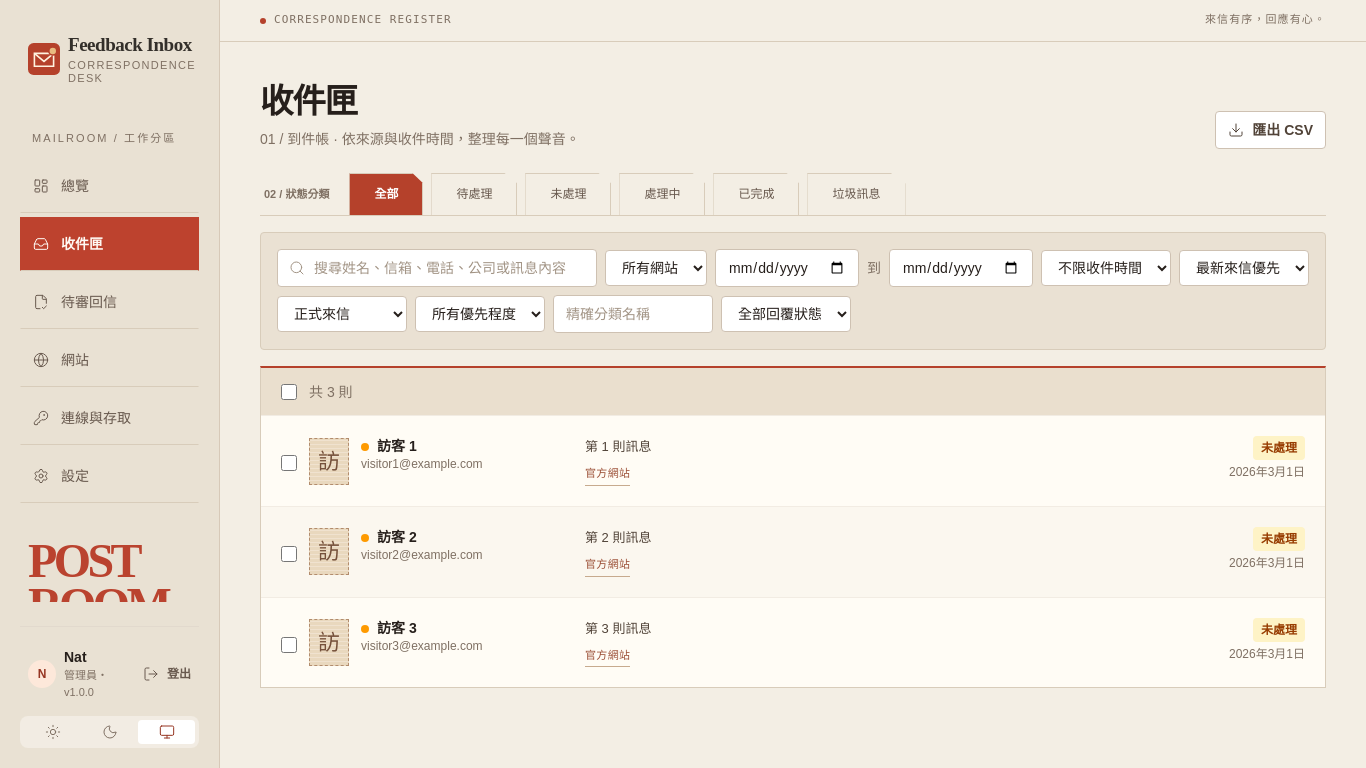
Test: 勾選幾則之後可以一次改狀態
Click the checkbox named "選取 訪客 1 的訊息" at (289, 463), box [281, 455, 297, 471]
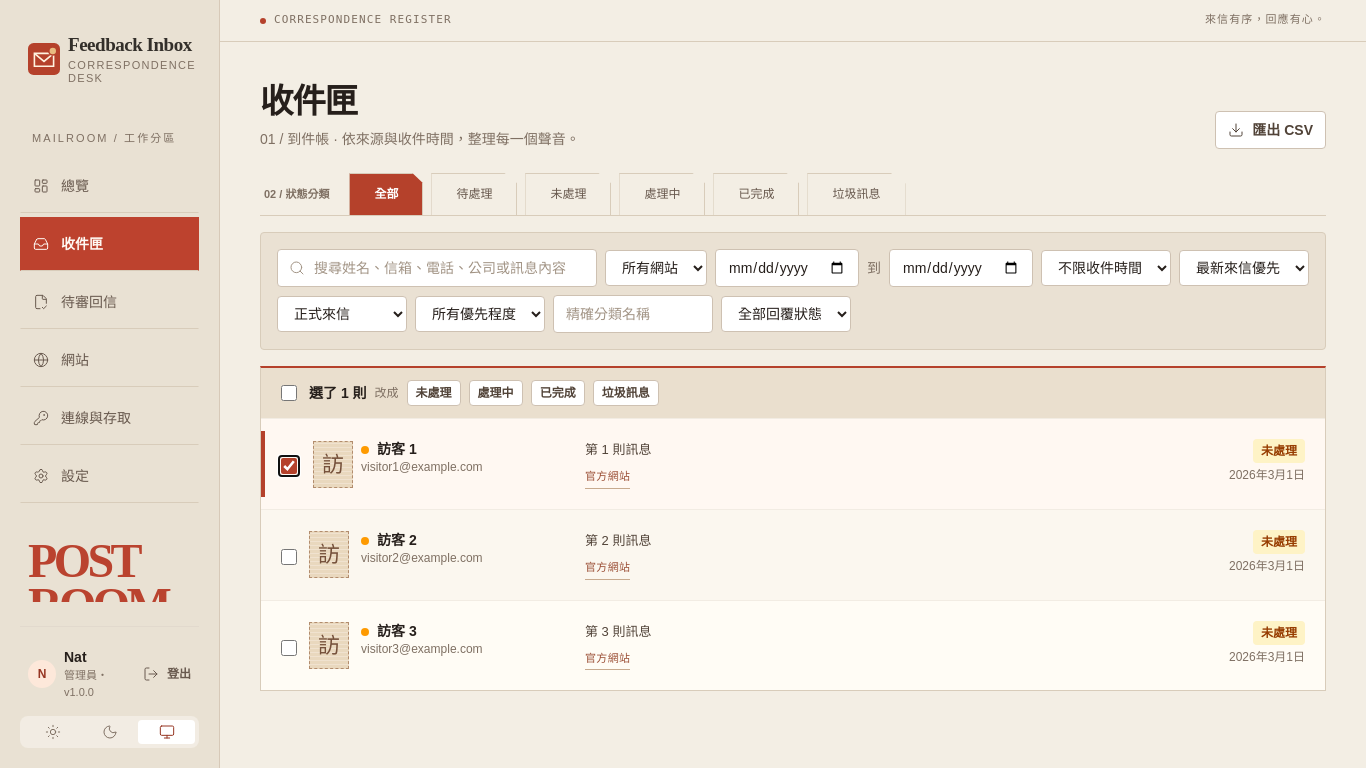
Click the checkbox named "選取 訪客 3 的訊息" at (289, 648), box [281, 640, 297, 656]
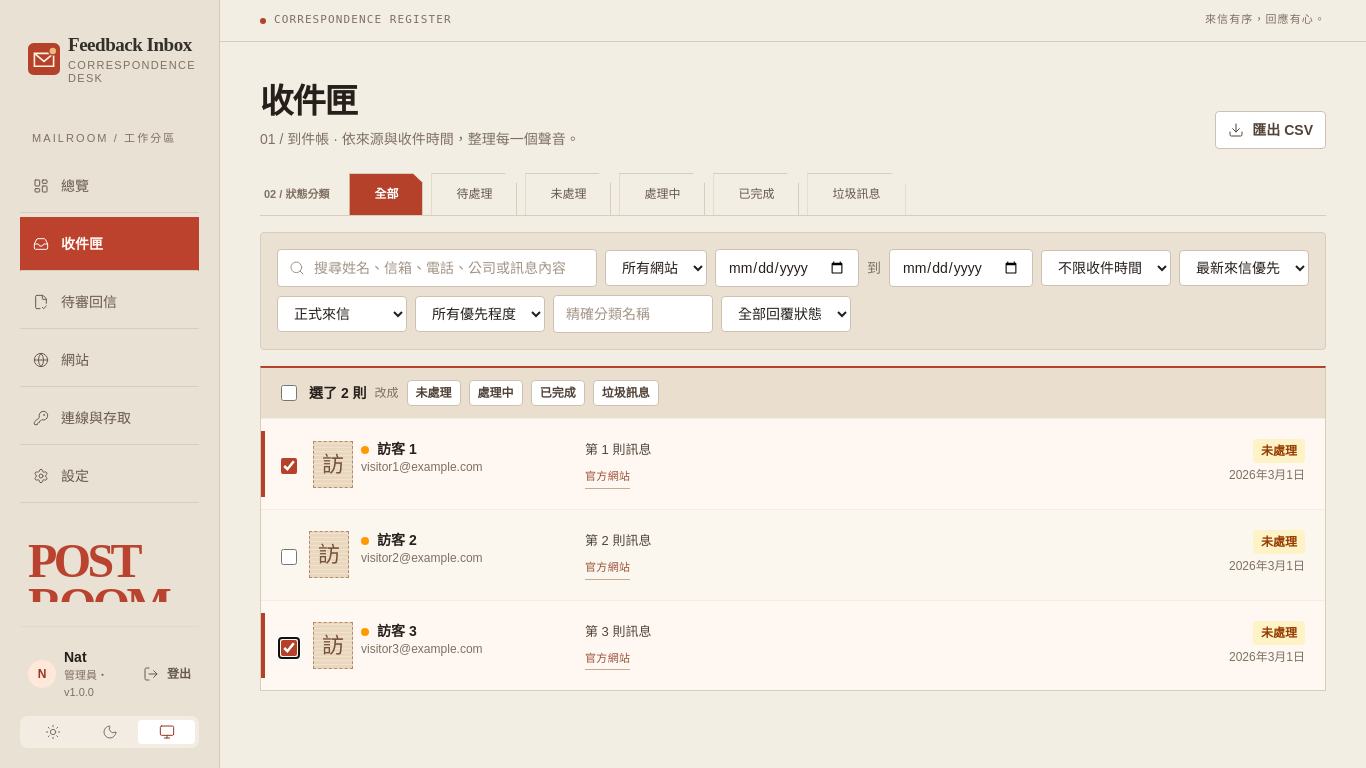
Now the text "選了 2 則" is shown, box [309, 383, 367, 403]
Click the button "已完成" at (558, 393), box [531, 380, 585, 406]
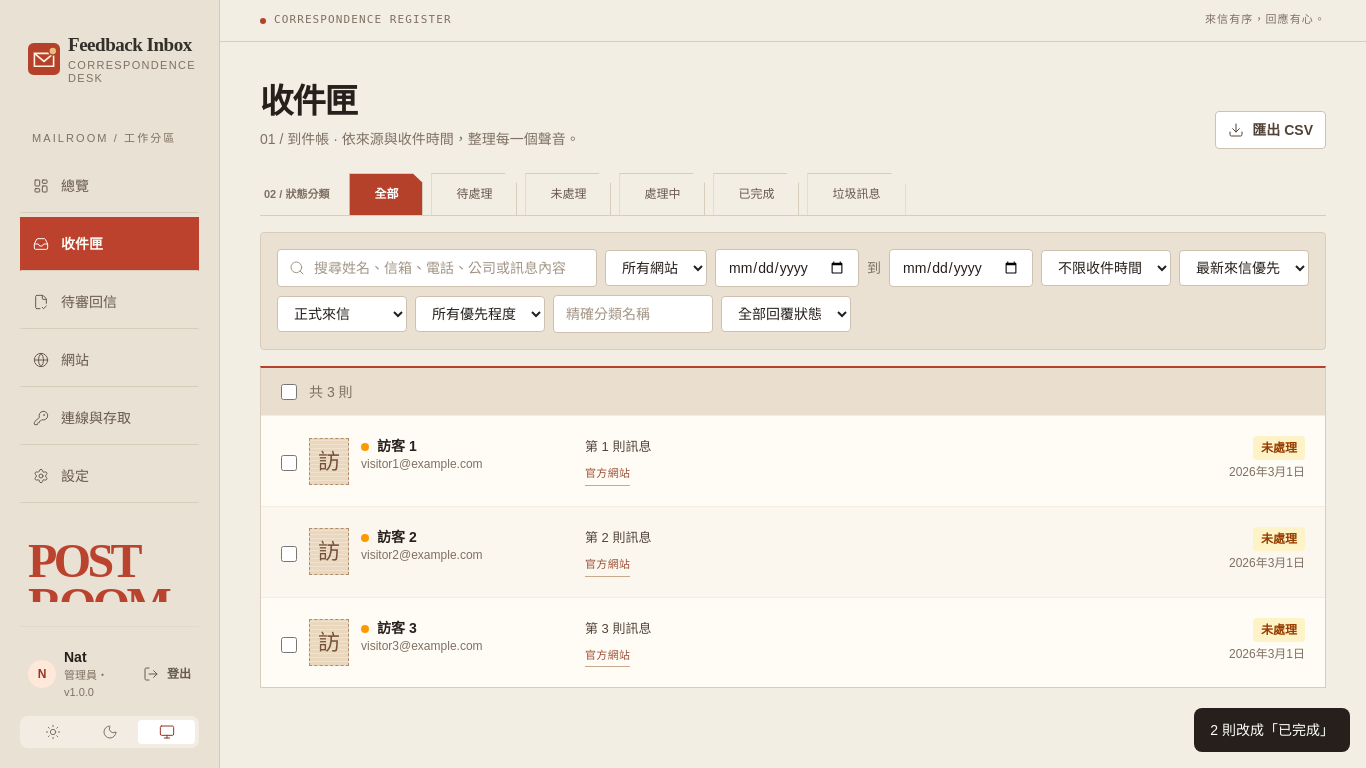
Now the message reads "2 則改成「已完成」", box [1210, 722, 1334, 738]
Now the text "共 3 則" is shown, box [309, 382, 353, 402]
